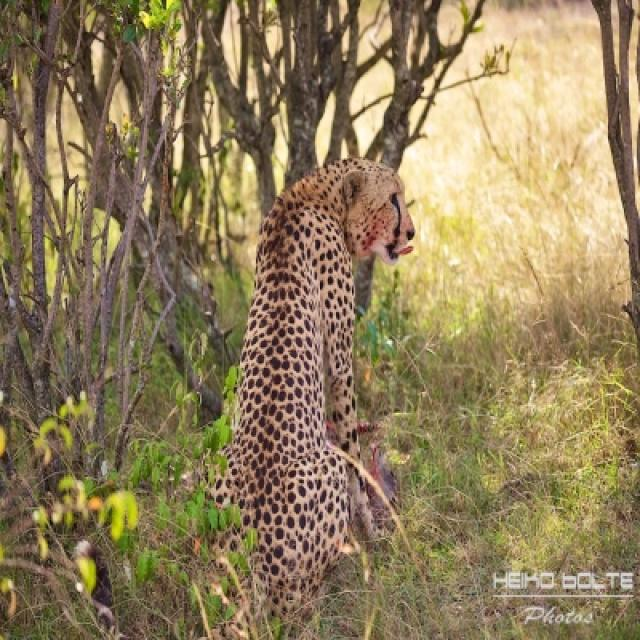Cheetah: (213, 158, 416, 629)
